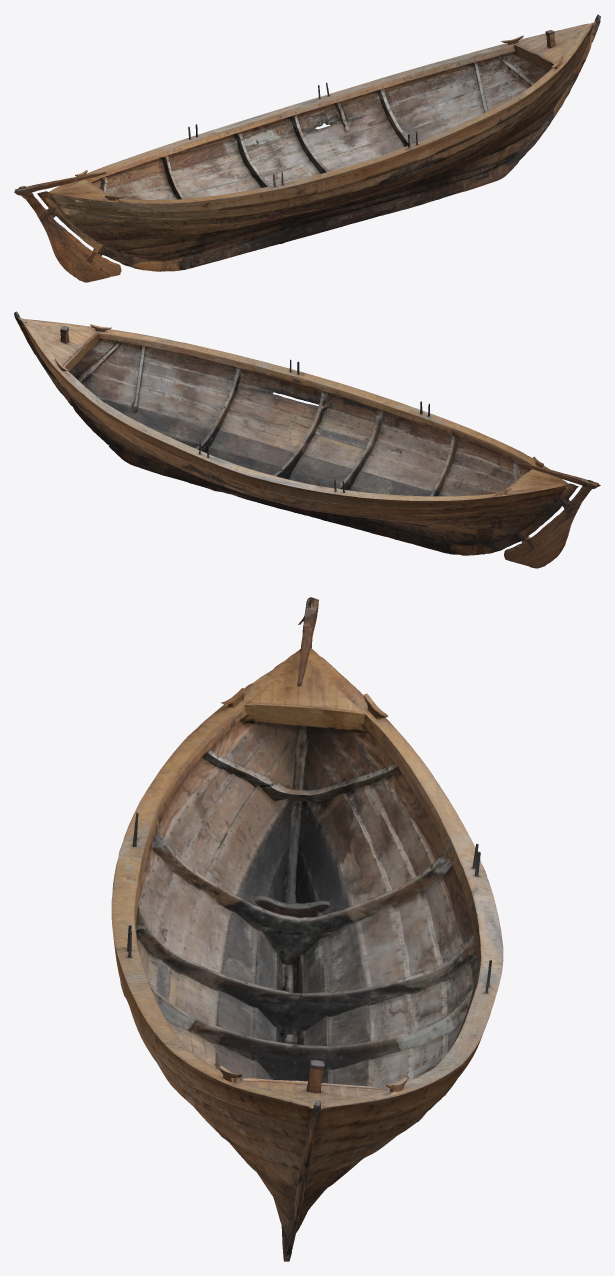
File: tide.glb
3 views of the same model, one above another, from view 1: azimuth 30°, elevation 25°; view 2: azimuth 150°, elevation 25°; view 3: azimuth 270°, elevation 25° (orthographic). The views are drawn at different scales.
Parts seen in each view (by area): view 1: Venus boat; view 2: Venus boat; view 3: Venus boat.
Boxes of the visible parts, box(x1,y1,x2,y2) form: Venus boat: box(14, 14, 600, 282); Venus boat: box(14, 311, 600, 568); Venus boat: box(111, 597, 503, 1261).
Size of the model in its own units: 6.27 by 1.48 by 1.82.
1 material, 1 textured.
